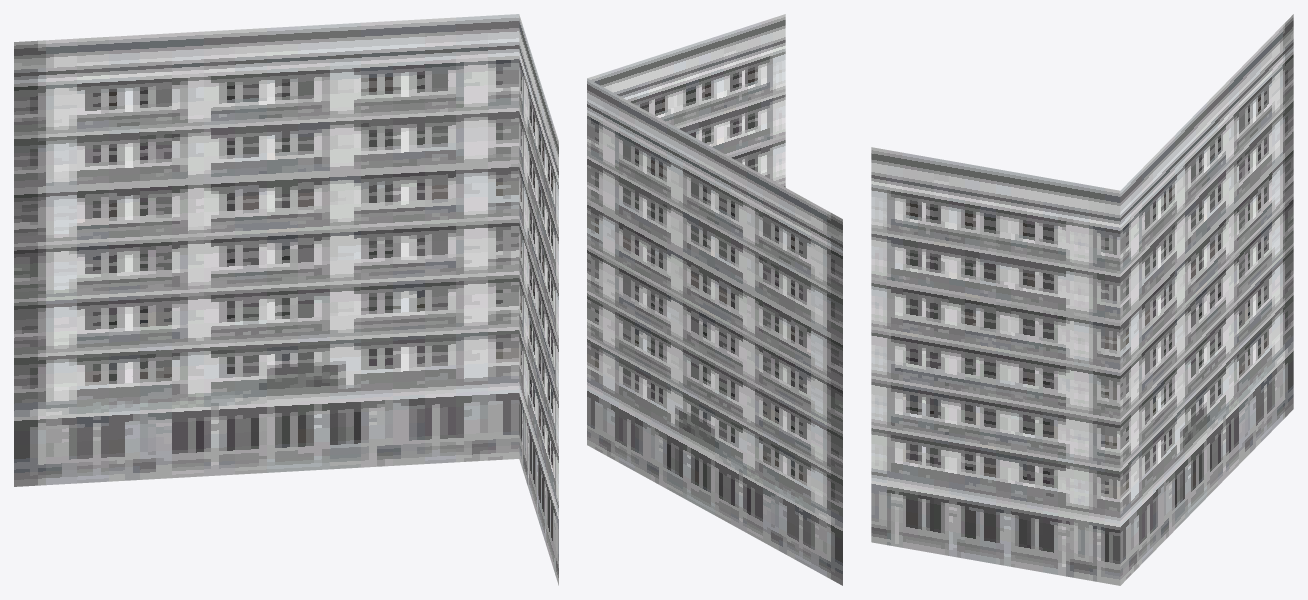
File: stage-beac-p3-274.glb
3 views of the same model, side by side, from view 1: azimuth 30°, elevation 25°; view 2: azimuth 150°, elevation 25°; view 3: azimuth 270°, elevation 25° (orthographic). The views are drawn at different scales.
Size of the model in its own units: 55 by 57.36 by 55.53.
1 material, 1 textured.
